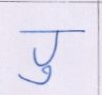u_matra: (19, 66, 55, 85)
